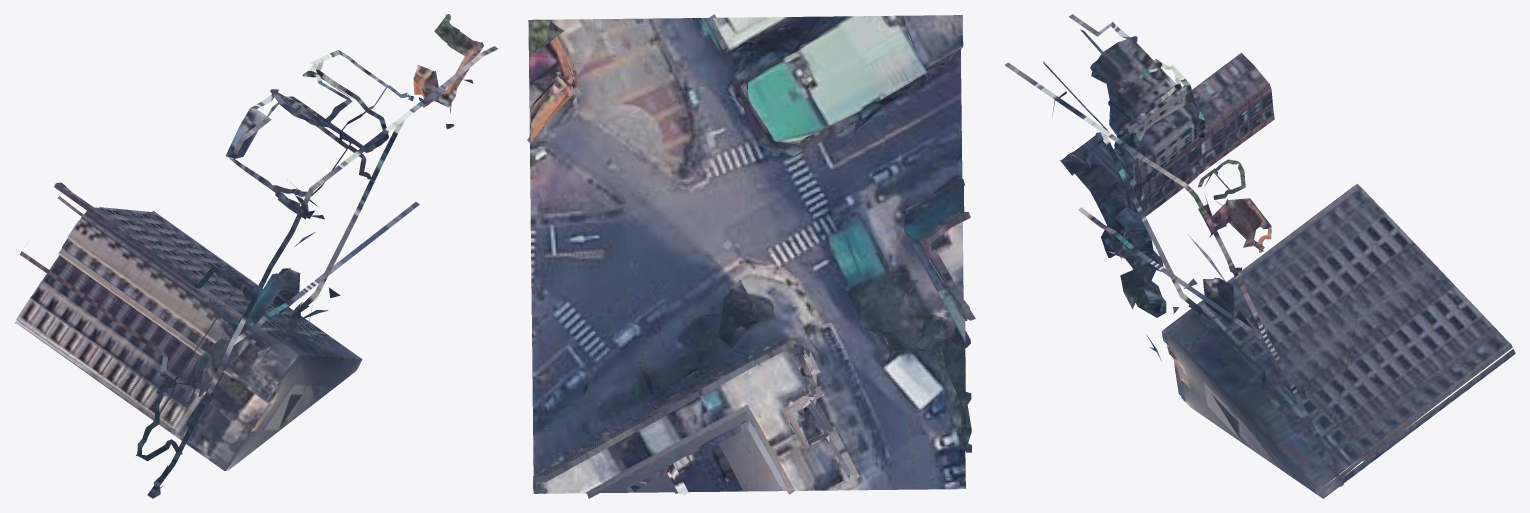
The picture shows the model from 3 angles, left to right: view 1: azimuth 30°, elevation 25°; view 2: azimuth 150°, elevation 25°; view 3: azimuth 270°, elevation 25°; orthographic projection. The views are drawn at different scales.
Size of the model in its own units: 91.47 by 79.16 by 97.15.
2 materials, 2 textured.
